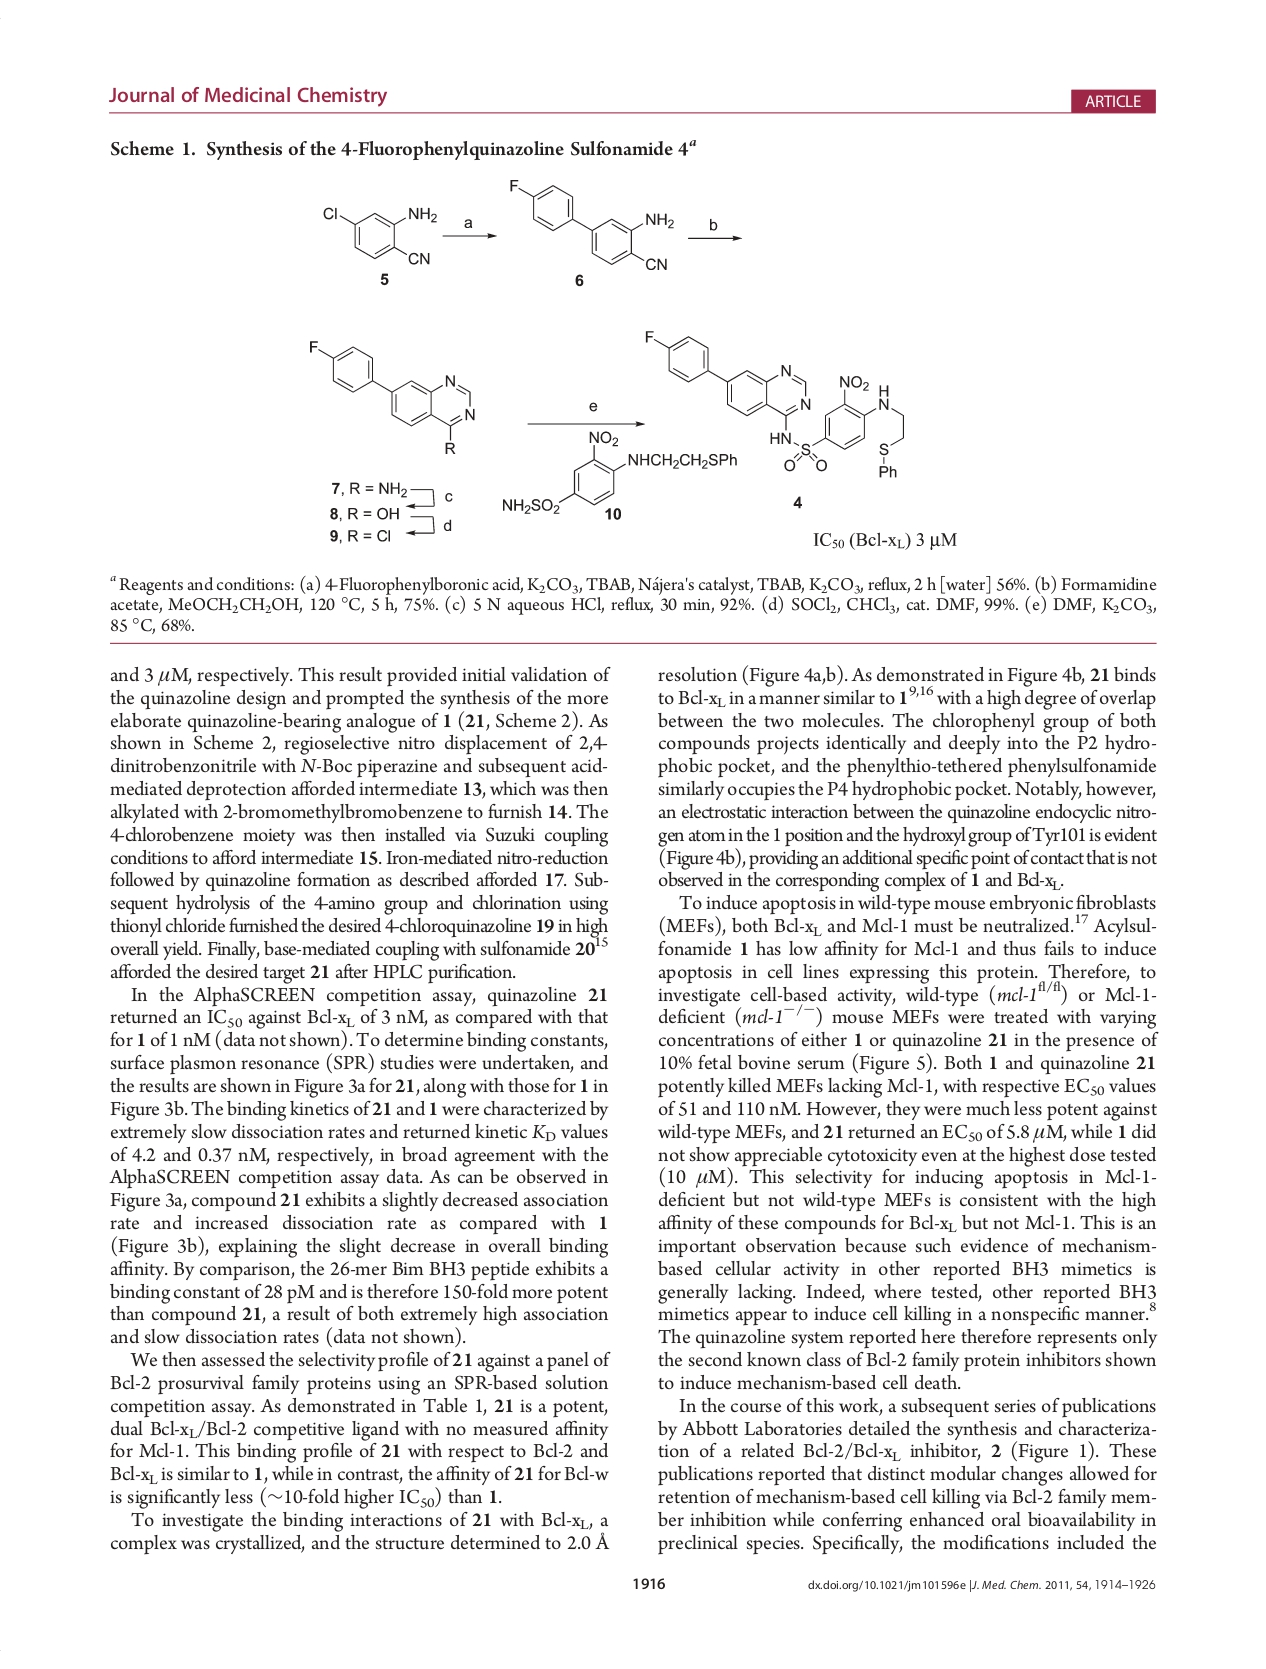exist_molecular: (640, 324, 910, 484), (305, 328, 480, 461), (499, 430, 742, 517), (504, 174, 680, 275), (319, 201, 438, 267)
